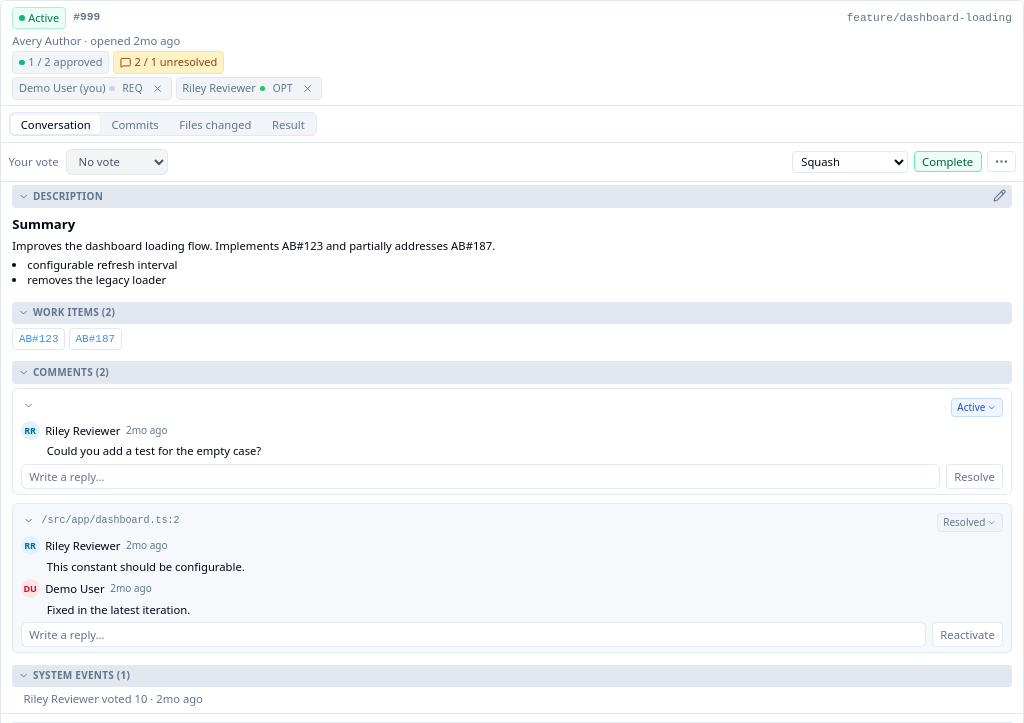
Test case: PrReviewPanel status actions › offers Reactivate instead of Abandon for an abandoned PR
This screenshot has width=1024, height=723.
Expected: the button "Complete" is shown, x1=914 y1=151 x2=982 y2=172
Click the button named "More actions" at point(1001, 162), box x1=987 y1=151 x2=1016 y2=172
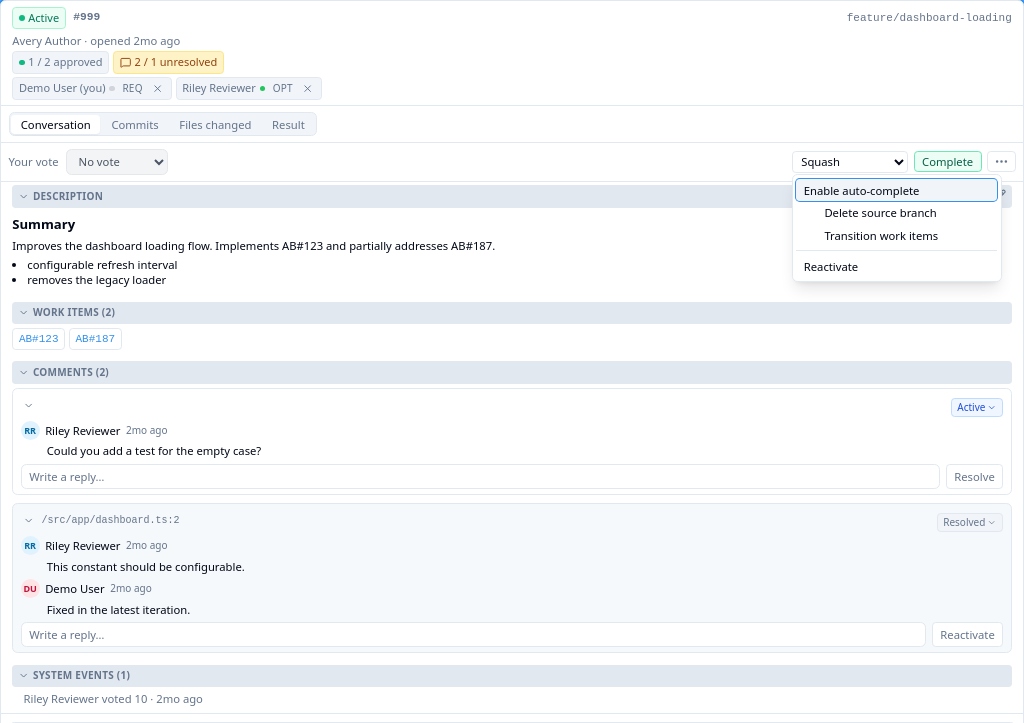
Expected: the menu item "Reactivate" is shown, x1=796 y1=255 x2=997 y2=277
